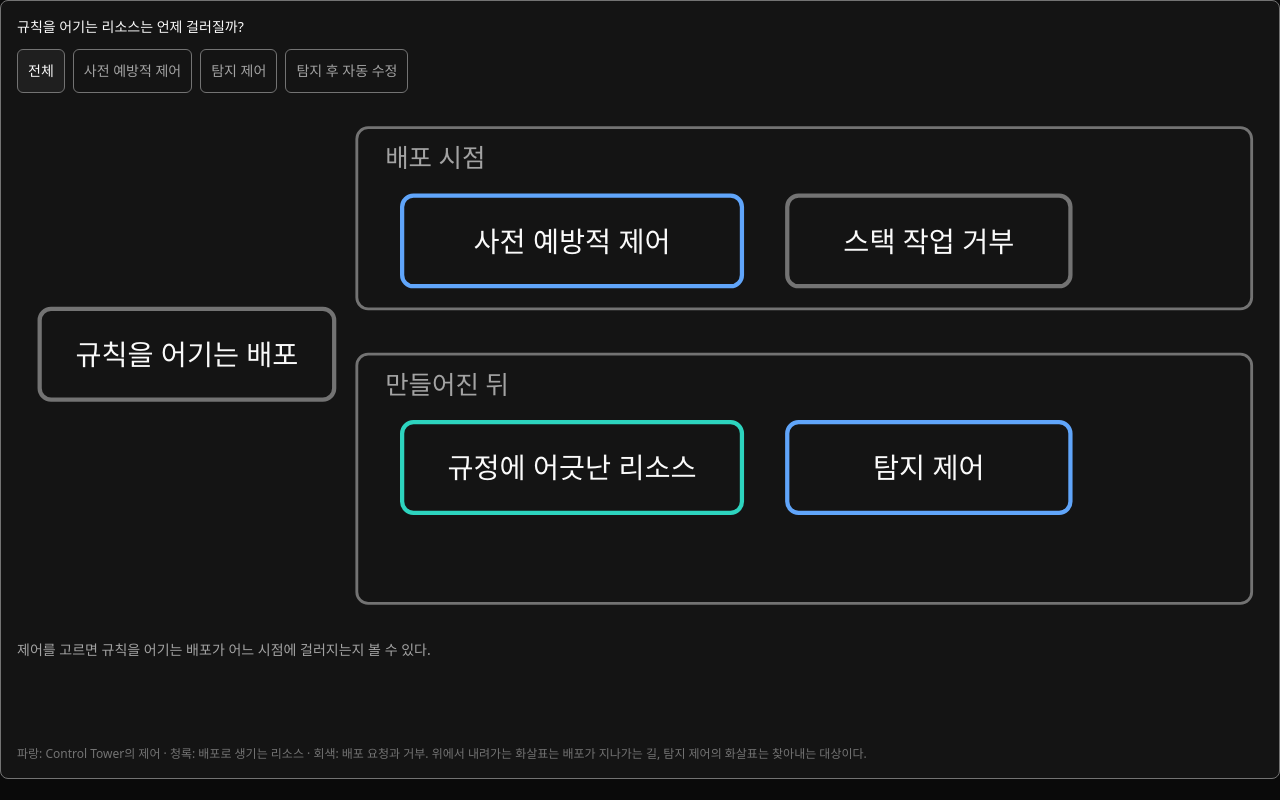
Test case: ControlTimingDiagram › 가로형 (768px 이상) › 사전 예방적 제어: 세로형과 같은 노드·경로·곁말·캡션을 보이고 곁말은 만들어진 뒤 안에서 노드·그룹 라벨과 겹치지 않는다
Click the button "사전 예방적 제어".
click(133, 71)  # box [73,49,192,93]
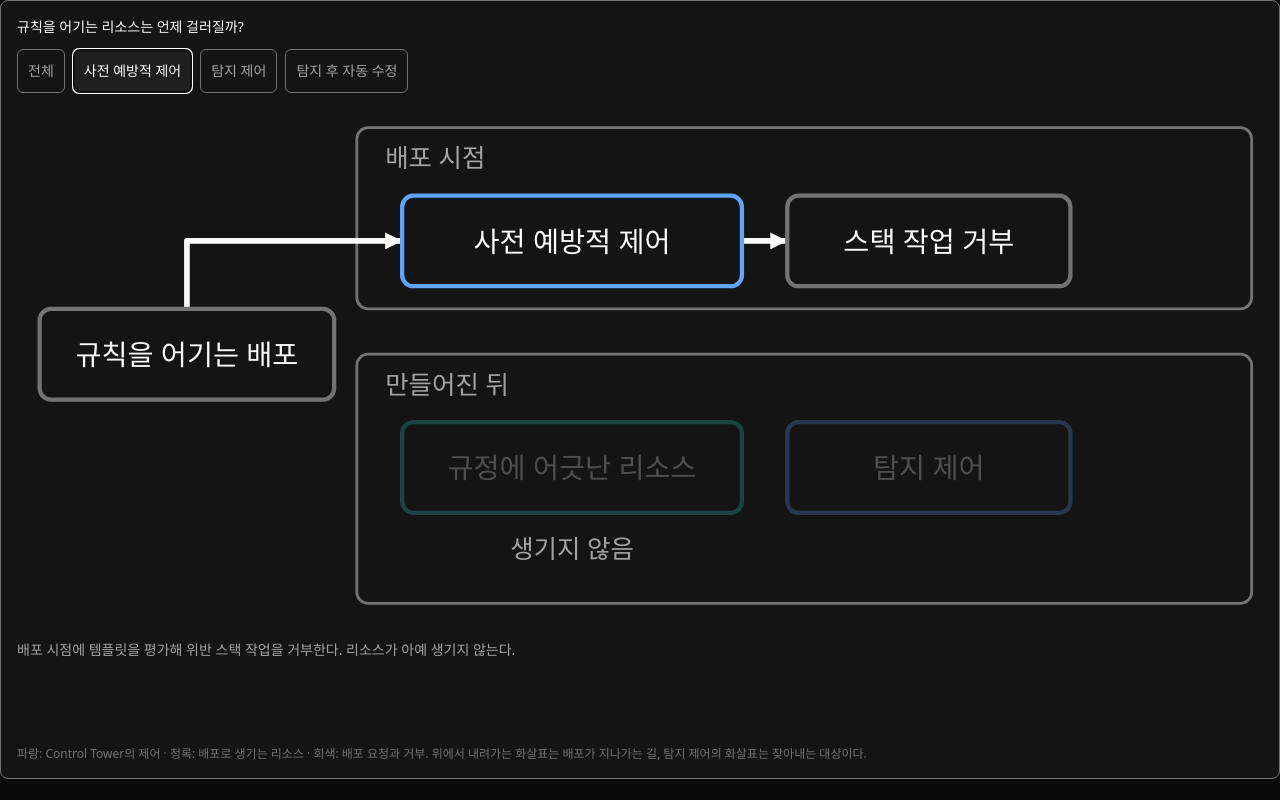
Check: the text "배포 시점에 템플릿을 평가해 위반 스택 작업을 거부한다. 리소스가 아예 생기지 않는다." is shown, box [17,640,515,659]
